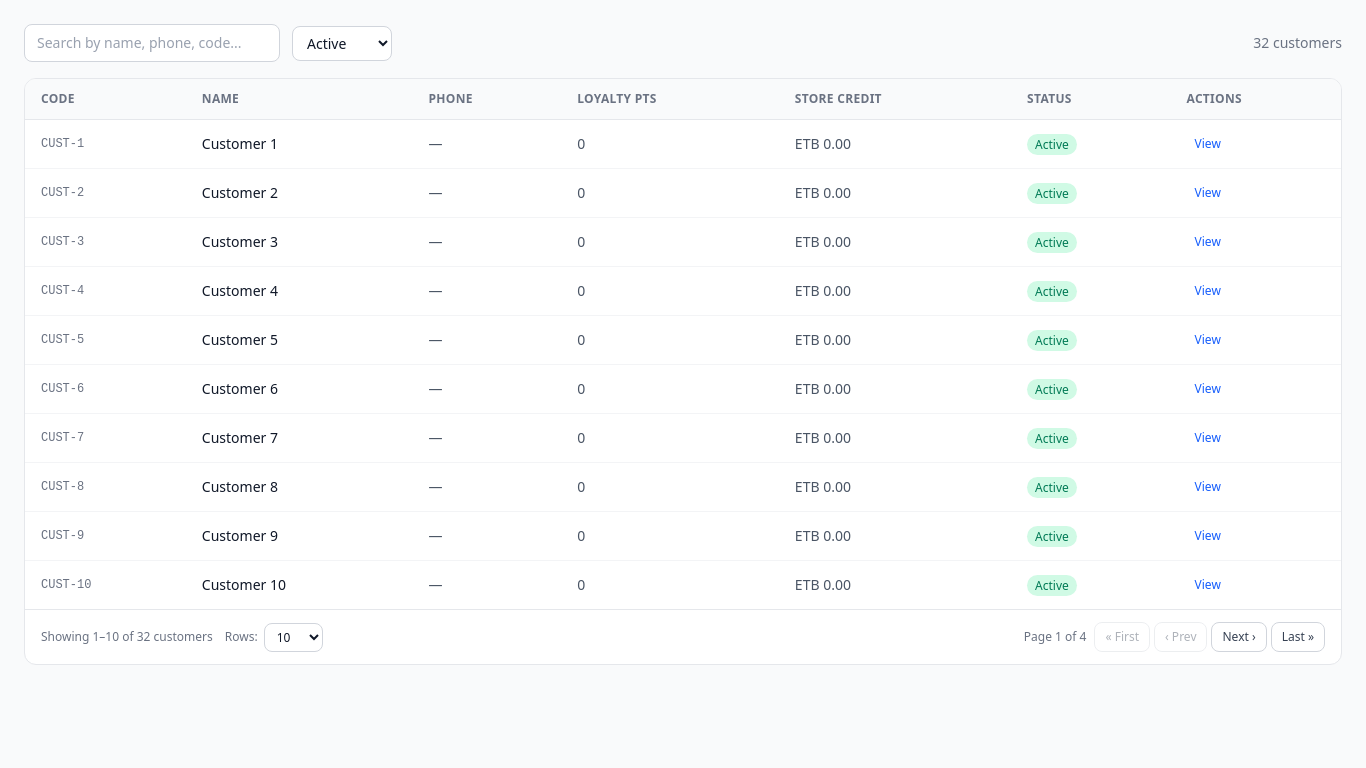
Test: CustomersPage — pagination › clicking Next requests page 2 with the current page size
Expected: the text "Page 1 of 4" is shown, [1024,629,1086,645]
Click the button with aria-label "next page" at [1239, 637], box [1212,622,1267,652]
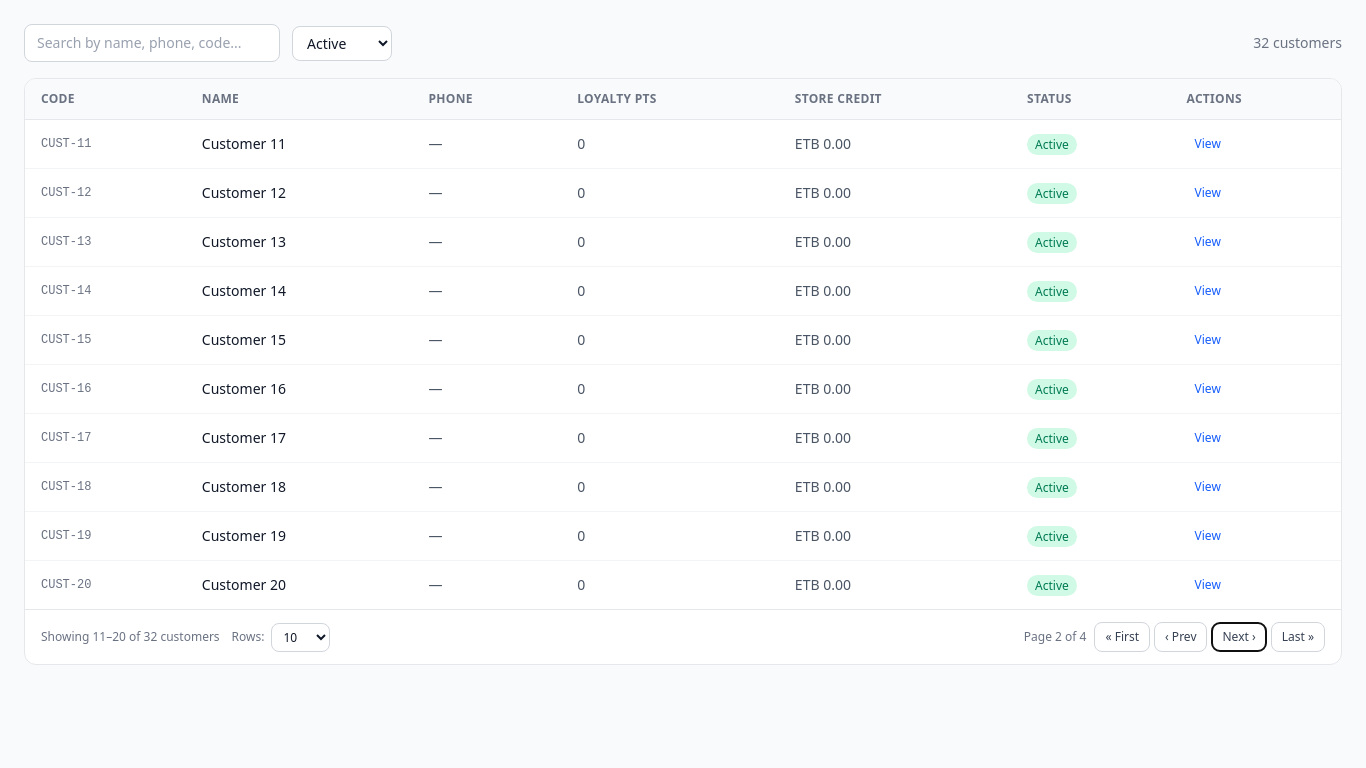
Now the text "Page 2 of 4" is shown, box [1024,629,1086,645]
